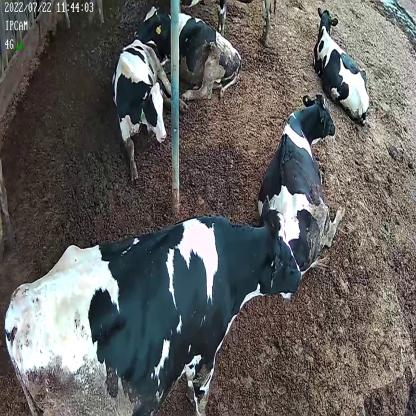cow: (4, 216, 303, 416), (257, 91, 344, 282), (133, 2, 243, 101), (112, 37, 187, 178), (313, 3, 372, 124)
